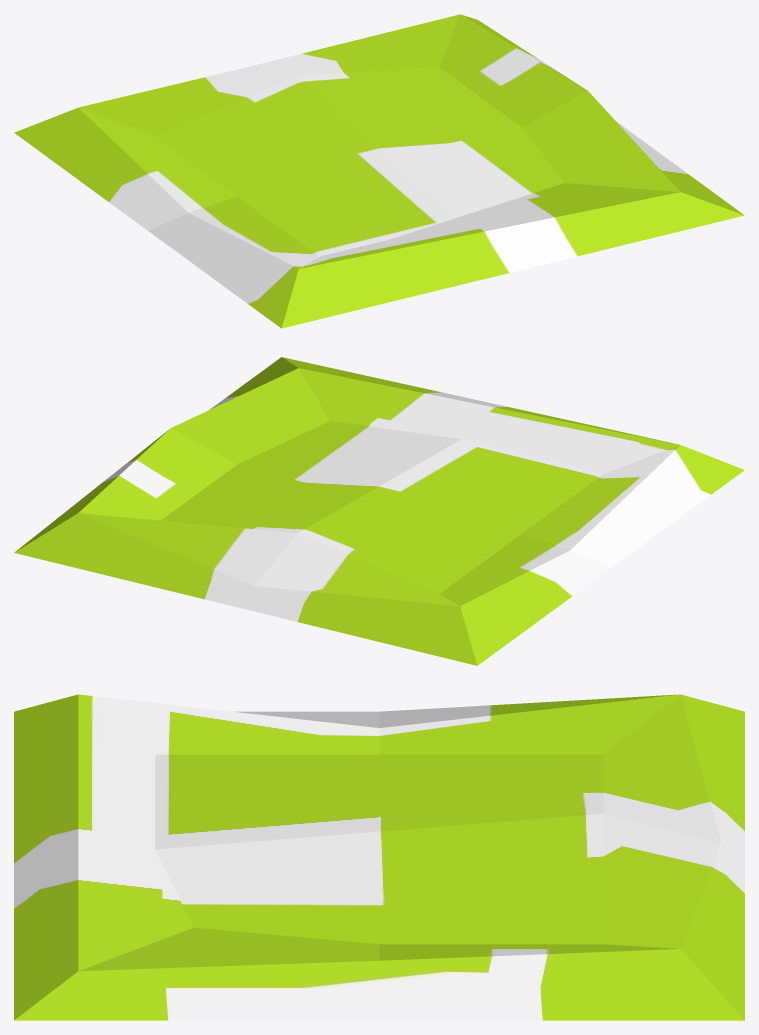
The model's file is floor_2.fbx.
3 views of the same model, one above another, from view 1: azimuth 30°, elevation 25°; view 2: azimuth 150°, elevation 25°; view 3: azimuth 270°, elevation 25° (orthographic). The views are drawn at different scales.
Parts seen in each view (by area): view 1: Cube; view 2: Cube; view 3: Cube.
Boxes of the visible parts, box(x1,y1,x2,y2) form: Cube: box(14, 14, 744, 328); Cube: box(14, 357, 744, 665); Cube: box(14, 694, 744, 1020).
Size of the model in its own units: 469 by 37.07 by 469.
